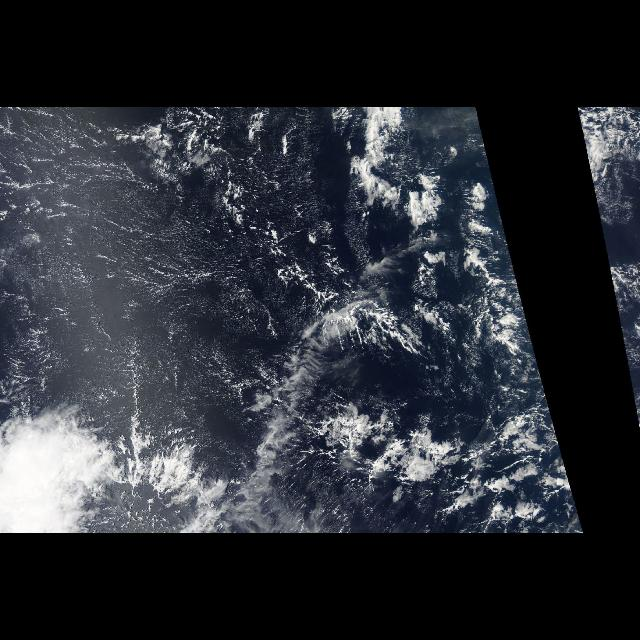Sugar: (9, 128, 262, 408)
